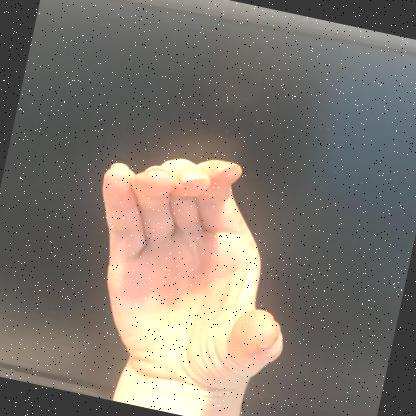C: (102, 158, 282, 402)
